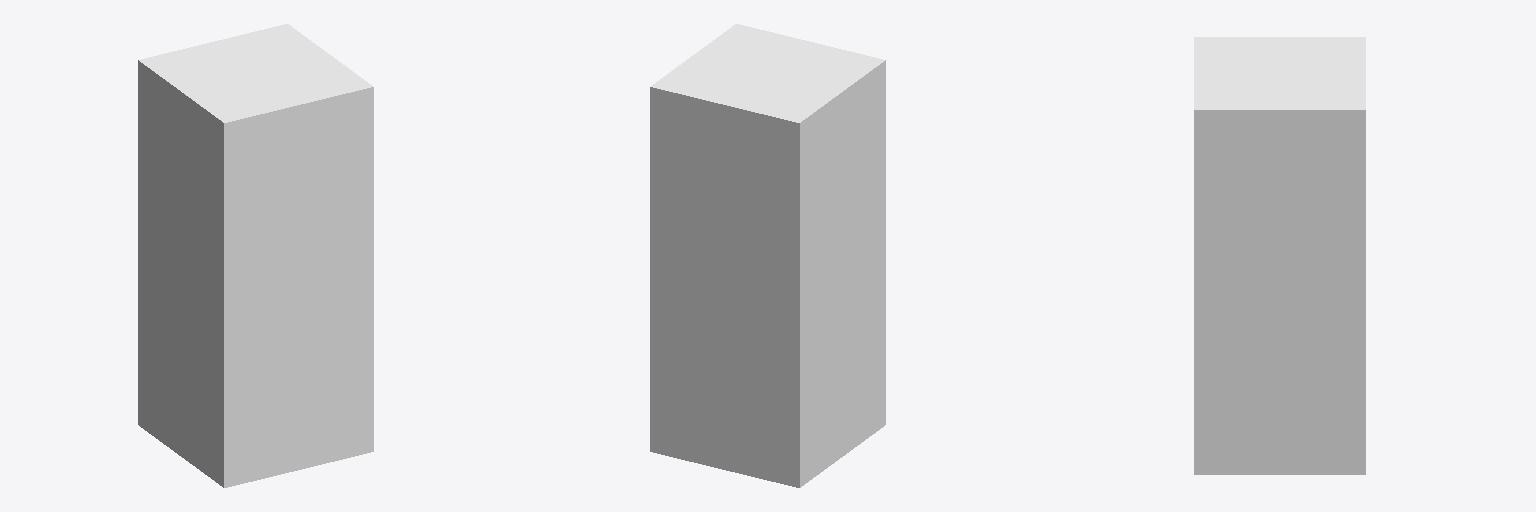
The model's file is hend2.obj.
3 views of the same model, side by side, from view 1: azimuth 30°, elevation 25°; view 2: azimuth 150°, elevation 25°; view 3: azimuth 270°, elevation 25° (orthographic).
Bounding box in the file's own units: 3 × 7 × 3.